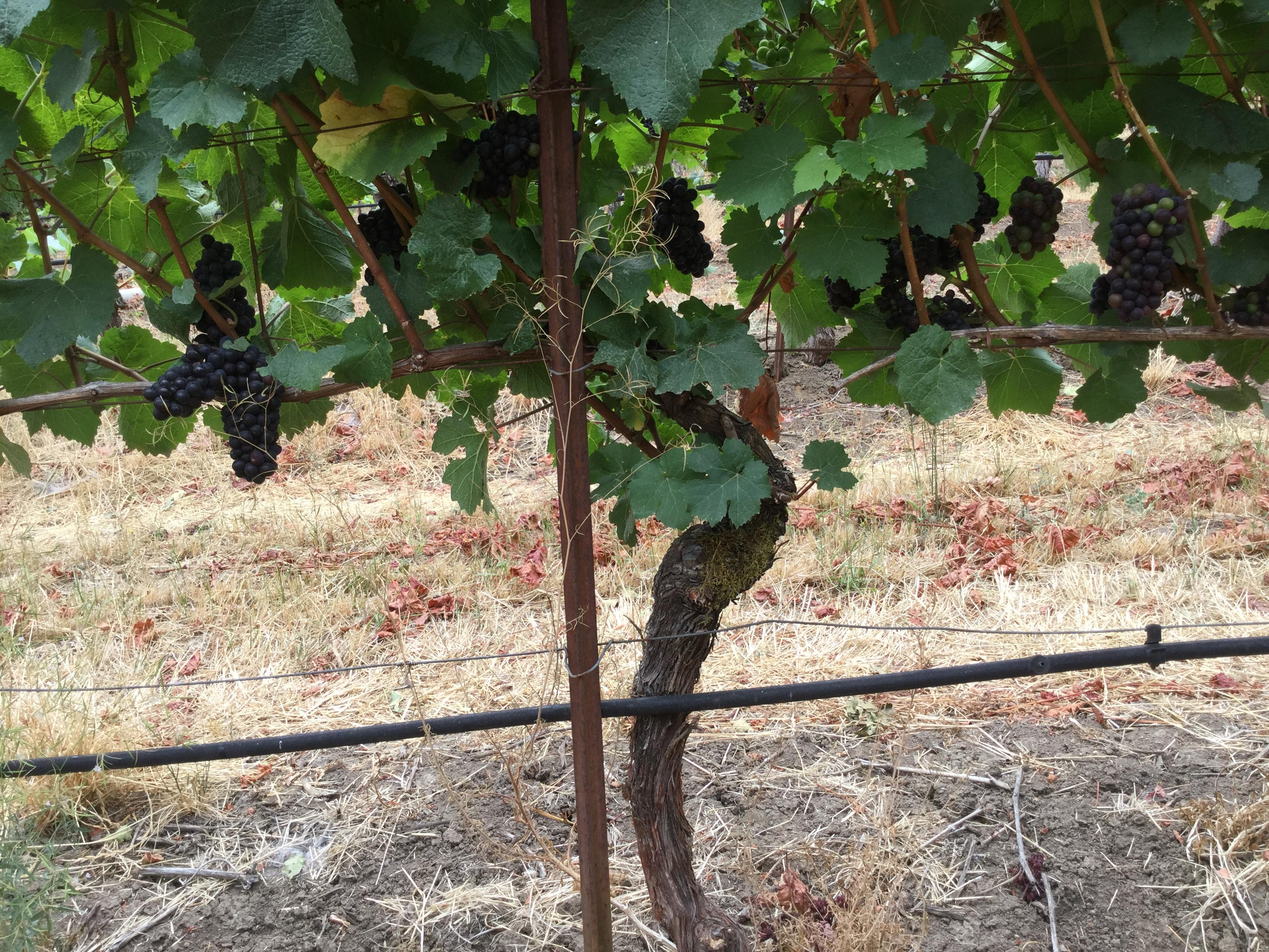leaf: (570, 0, 762, 125), (188, 0, 357, 87), (0, 244, 117, 366), (313, 84, 447, 181), (407, 0, 538, 99), (1132, 77, 1268, 153), (795, 190, 897, 288), (409, 195, 500, 299), (261, 195, 355, 293), (655, 314, 763, 397), (894, 324, 981, 423), (714, 125, 806, 218), (148, 47, 246, 128), (117, 114, 199, 203), (686, 439, 770, 525), (407, 0, 492, 79), (832, 113, 928, 180), (906, 146, 978, 235), (628, 446, 701, 529), (432, 413, 492, 513), (979, 348, 1061, 417), (1072, 352, 1147, 422), (770, 278, 843, 347), (832, 306, 903, 376), (1115, 3, 1193, 65), (975, 131, 1035, 211), (894, 0, 991, 48), (44, 27, 98, 110), (869, 33, 949, 89), (100, 325, 180, 379), (485, 19, 538, 100), (721, 208, 781, 278), (334, 314, 392, 385), (594, 335, 659, 396), (117, 403, 194, 454), (589, 441, 655, 500), (267, 340, 346, 389), (1206, 227, 1268, 285), (488, 286, 539, 354), (380, 252, 433, 317), (0, 350, 72, 397), (489, 216, 541, 279), (23, 407, 99, 446), (802, 440, 856, 490), (1211, 340, 1268, 383), (793, 144, 843, 193), (0, 0, 49, 47), (1187, 382, 1263, 412), (278, 397, 334, 436), (1208, 161, 1262, 200), (847, 368, 902, 405), (49, 124, 85, 173), (0, 430, 31, 478), (362, 283, 396, 325), (0, 141, 11, 154), (113, 374, 130, 382), (1116, 104, 1122, 122), (927, 37, 940, 42), (600, 341, 607, 348), (612, 189, 617, 196), (582, 170, 585, 179), (25, 465, 28, 474), (874, 13, 879, 18), (685, 299, 690, 303), (202, 138, 205, 144), (13, 141, 16, 147), (596, 355, 599, 359), (601, 360, 606, 362), (723, 308, 730, 309), (202, 130, 205, 131), (623, 177, 624, 180), (199, 127, 201, 128), (0, 136, 2, 137), (609, 199, 610, 200), (874, 242, 875, 243), (623, 173, 623, 175), (878, 246, 879, 246), (499, 11, 501, 11), (681, 308, 681, 309)
